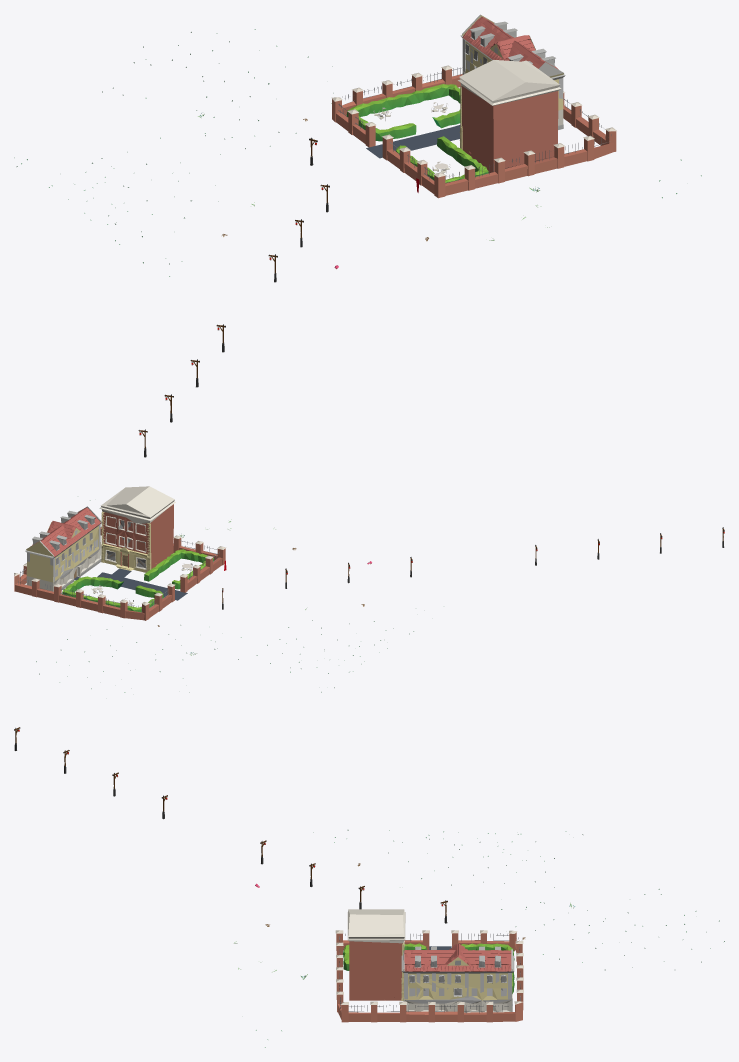
File: chunk_2_2_lod1.glb
3 views of the same model, one above another, from view 1: azimuth 30°, elevation 25°; view 2: azimuth 150°, elevation 25°; view 3: azimuth 270°, elevation 25° (orthographic). The views are drawn at different scales.
Visible parts, largest first — view 1: Batched_Chunk_2_2.001; view 2: Batched_Chunk_2_2.001; view 3: Batched_Chunk_2_2.001.
Part boxes in pixels (x1=…): Batched_Chunk_2_2.001: x1=14, y1=14, x2=701, y2=457; Batched_Chunk_2_2.001: x1=14, y1=486, x2=724, y2=692; Batched_Chunk_2_2.001: x1=14, y1=727, x2=724, y2=1047.
Bounding box in the file's own units: 111 × 12.64 × 111.
28 materials, 1 textured.
